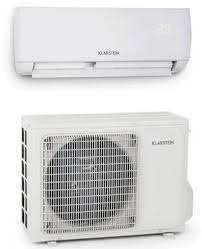ac: (8, 4, 192, 84)
